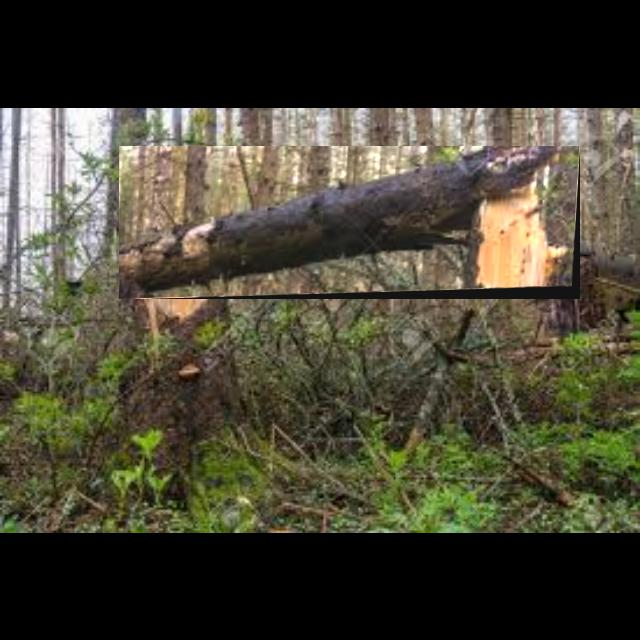Fallen Tree: (119, 146, 581, 300)
